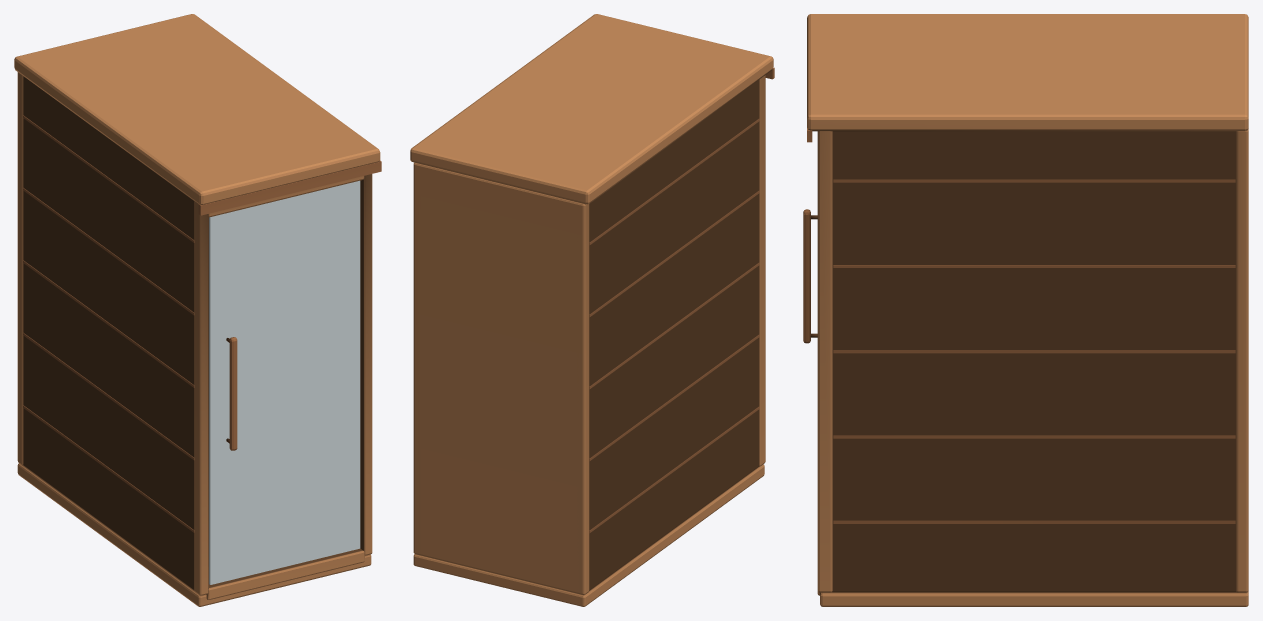
The model's file is soloSauna.glb.
3 renders of one model, left to right at view 1: azimuth 30°, elevation 25°; view 2: azimuth 150°, elevation 25°; view 3: azimuth 270°, elevation 25°, orthographic. The views are drawn at different scales.
Visible parts, largest first — view 1: body, door; view 2: body; view 3: body, door.
Part boxes in pixels (<box>): body: <box>14,14,381,606</box>; door: <box>209,180,360,584</box>; body: <box>410,14,774,606</box>; body: <box>807,14,1248,606</box>; door: <box>803,209,817,343</box>.
Size of the model in its own units: 0.94 by 2.09 by 1.71.
